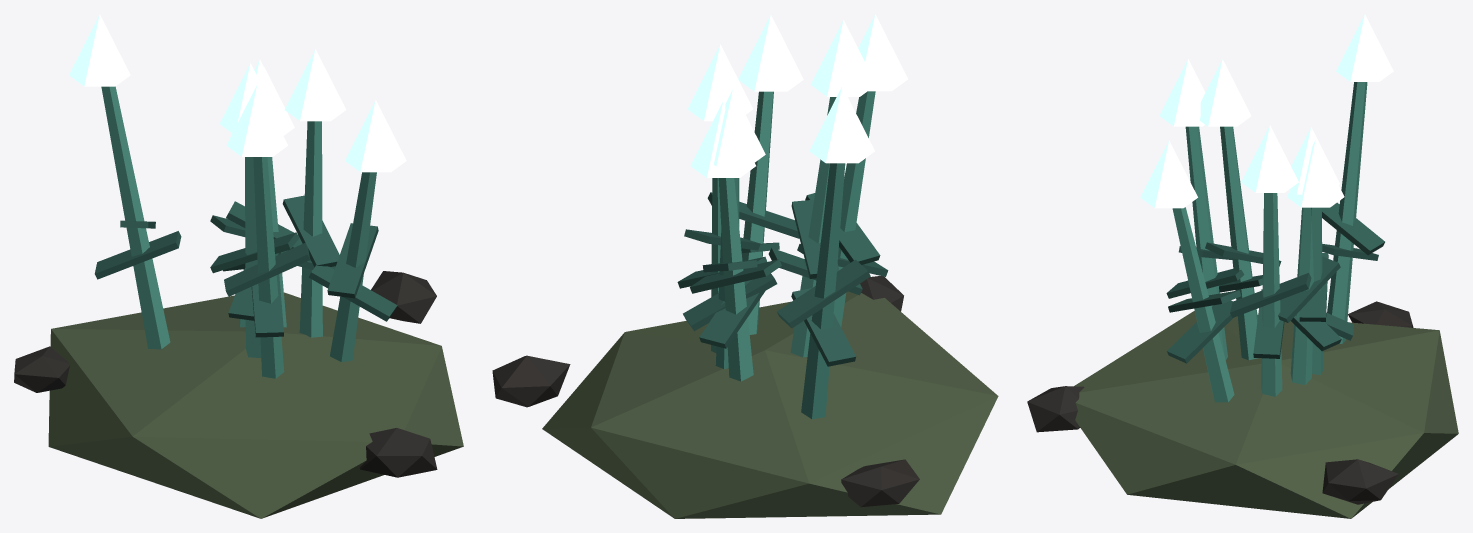
File: ventbloom_patch.glb
3 renders of one model, left to right at view 1: azimuth 30°, elevation 25°; view 2: azimuth 150°, elevation 25°; view 3: azimuth 270°, elevation 25°, orthographic. The views are drawn at different scales.
Parts seen in each view (by area): view 1: NODE_Ventbloom_Mesh; view 2: NODE_Ventbloom_Mesh; view 3: NODE_Ventbloom_Mesh.
Boxes of the visible parts, x1,y1,x2,y2 form: NODE_Ventbloom_Mesh: [14, 14, 463, 518]; NODE_Ventbloom_Mesh: [492, 14, 998, 518]; NODE_Ventbloom_Mesh: [1027, 14, 1458, 518].
Bounding box in the file's own units: 0.8344 × 0.8316 × 0.8182.
